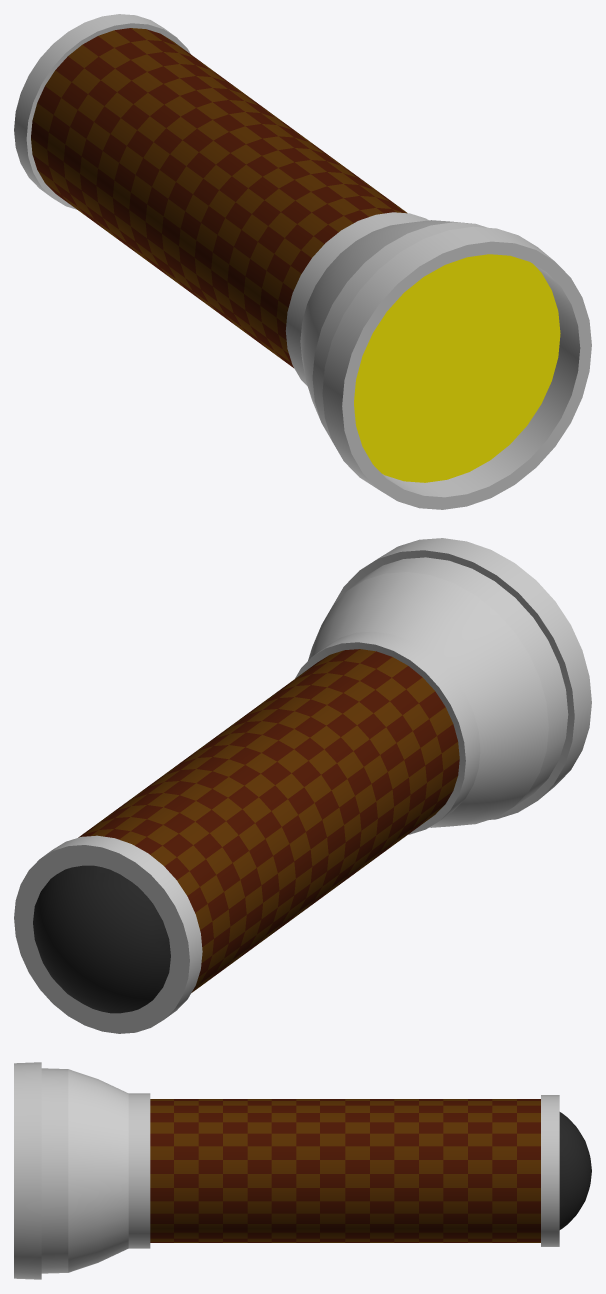
The model's file is flashlight.fbx.
3 views of the same model, one above another, from view 1: azimuth 30°, elevation 25°; view 2: azimuth 150°, elevation 25°; view 3: azimuth 270°, elevation 25° (orthographic). The views are drawn at different scales.
Parts seen in each view (by area): view 1: Цилиндр; view 2: Цилиндр; view 3: Цилиндр.
Part boxes in pixels (bbox=[...]): Цилиндр: bbox=[14, 14, 591, 509]; Цилиндр: bbox=[14, 538, 591, 1033]; Цилиндр: bbox=[14, 1062, 591, 1279].
Size of the model in its own units: 0.0581 by 0.0581 by 0.1542.
